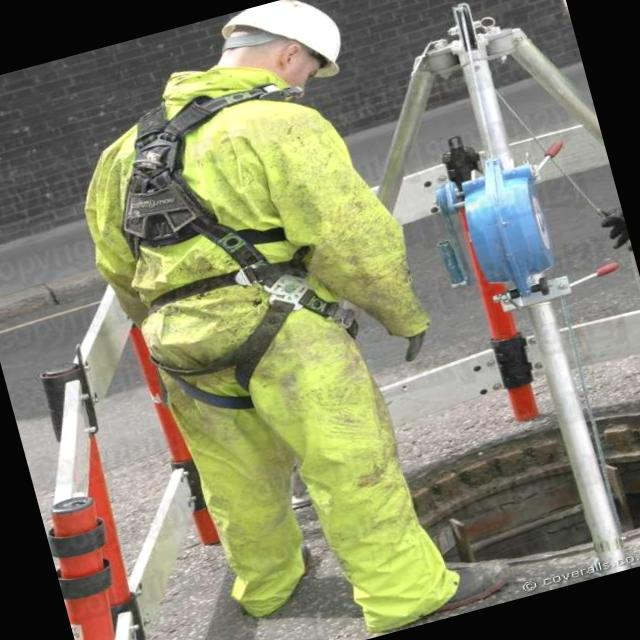helmet: (216, 0, 353, 91)
vest: (66, 62, 431, 424)
